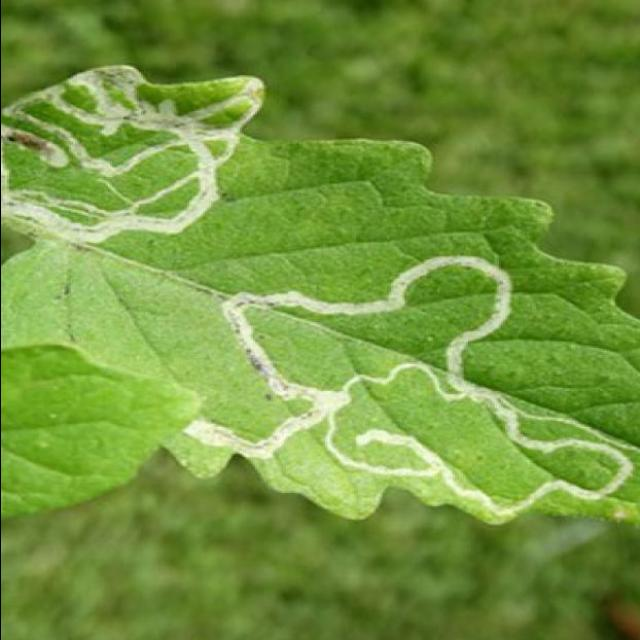Serpentine leafminer: (168, 245, 640, 520), (0, 62, 267, 250)
